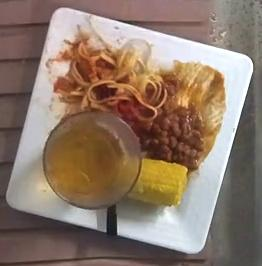beans: (143, 107, 204, 169)
corn: (127, 158, 186, 204)
pasta: (53, 29, 224, 167)
